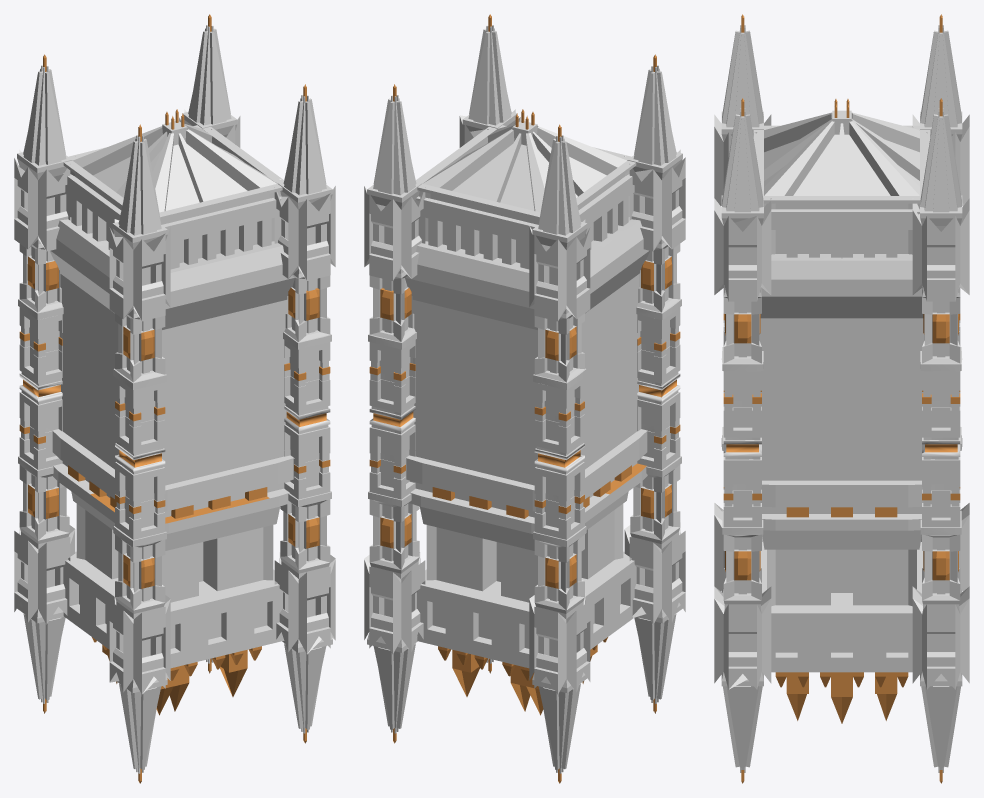
The model's file is ClockTower.fbx.
3 views of the same model, side by side, from view 1: azimuth 30°, elevation 25°; view 2: azimuth 150°, elevation 25°; view 3: azimuth 270°, elevation 25° (orthographic). The views are drawn at different scales.
Visible parts, largest first — view 1: Cube.136; view 2: Cube.136; view 3: Cube.136.
Boxes of the visible parts, x1,y1,x2,y2 form: Cube.136: (14, 14, 335, 783); Cube.136: (364, 14, 685, 783); Cube.136: (714, 14, 969, 783).
Bounding box in the file's own units: 5398 × 16016 × 5405.
